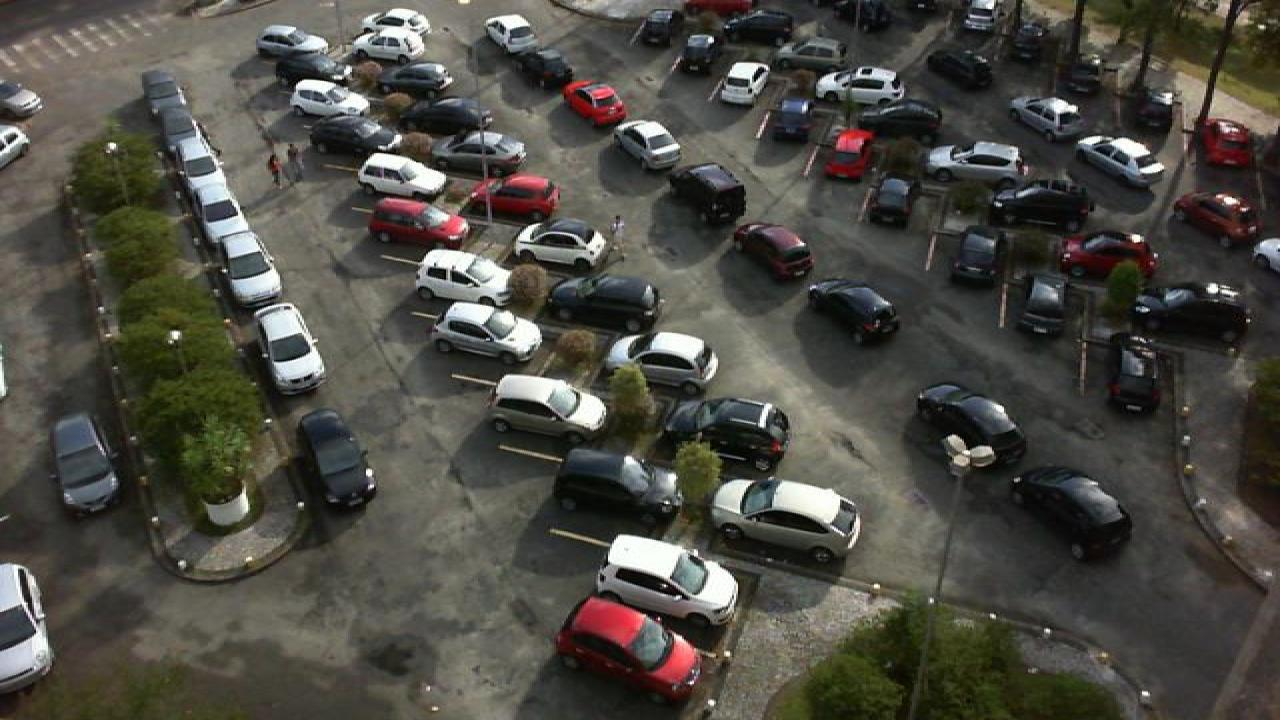Car: (552, 595, 704, 705), (592, 534, 746, 632), (710, 476, 862, 564), (1008, 466, 1136, 564), (548, 448, 686, 526), (912, 381, 1028, 466), (662, 396, 792, 471), (486, 372, 610, 448), (294, 406, 380, 512), (602, 332, 722, 399), (46, 411, 120, 515), (1136, 282, 1256, 346), (252, 300, 330, 398), (542, 274, 664, 336), (0, 562, 54, 696), (430, 302, 544, 364), (804, 277, 904, 345), (412, 249, 512, 308), (508, 216, 608, 274), (990, 181, 1098, 234), (368, 195, 468, 250), (666, 162, 750, 226), (1170, 190, 1266, 245), (730, 221, 818, 280), (1000, 272, 1074, 340), (1060, 231, 1160, 281), (1076, 135, 1168, 189), (1106, 332, 1166, 414), (352, 151, 450, 200), (430, 130, 530, 176), (222, 240, 288, 308), (922, 141, 1024, 182), (470, 175, 560, 221), (308, 114, 400, 158), (816, 65, 908, 106), (612, 119, 684, 171), (948, 224, 1006, 288), (1010, 96, 1090, 142), (858, 100, 944, 140), (560, 79, 630, 127), (392, 66, 484, 102), (1196, 117, 1258, 169), (822, 126, 880, 180), (204, 200, 258, 258), (924, 48, 998, 90), (274, 49, 350, 89), (290, 79, 368, 117), (778, 35, 852, 73), (350, 28, 426, 64), (254, 25, 332, 60), (186, 163, 234, 218), (724, 9, 796, 44), (514, 47, 572, 90), (170, 131, 218, 182), (718, 61, 770, 108), (764, 97, 816, 143), (154, 99, 202, 146), (360, 8, 434, 38), (484, 15, 540, 53), (1056, 57, 1106, 98), (140, 68, 186, 112), (1006, 20, 1050, 62), (674, 33, 718, 74), (634, 8, 680, 45), (960, 0, 998, 34)
